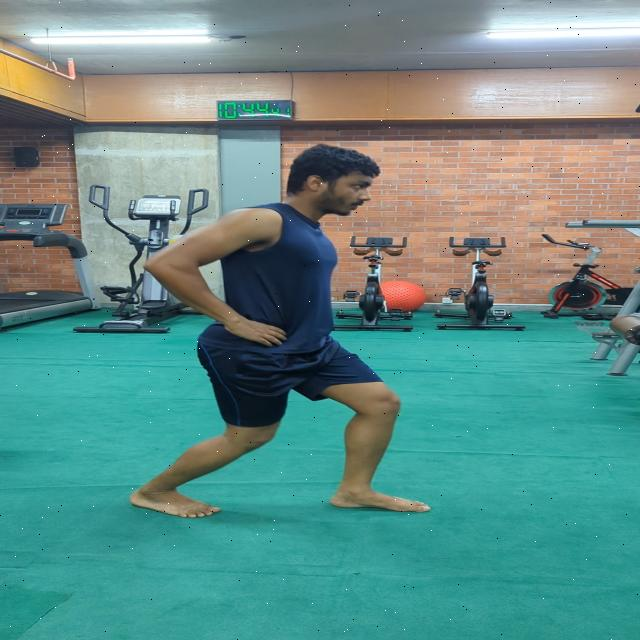Normal_Lunges: (121, 140, 441, 524)
